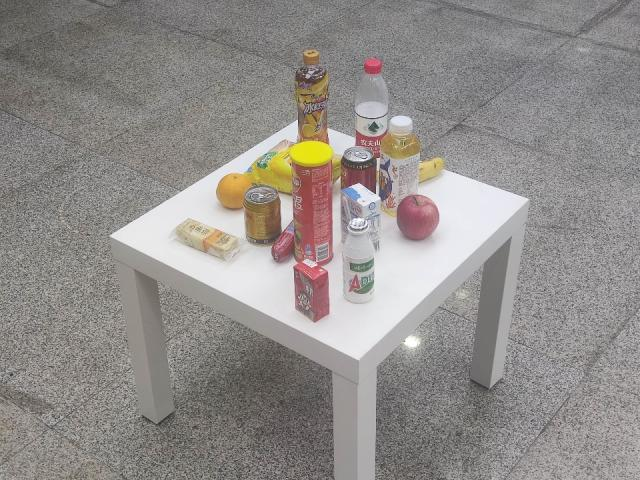Canned_drinks: (242, 182, 283, 244), (339, 146, 376, 196)
bottle: (349, 51, 391, 157)
cylinder: (284, 140, 340, 266)
drink_box: (337, 180, 386, 253), (287, 250, 334, 326)
